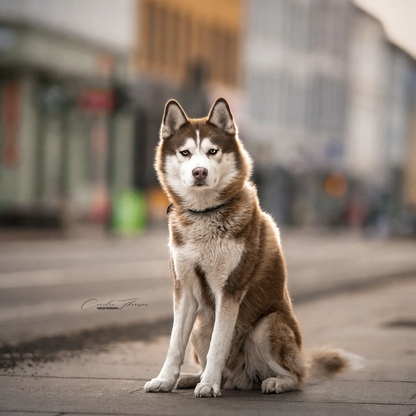husky: (139, 90, 367, 401)
